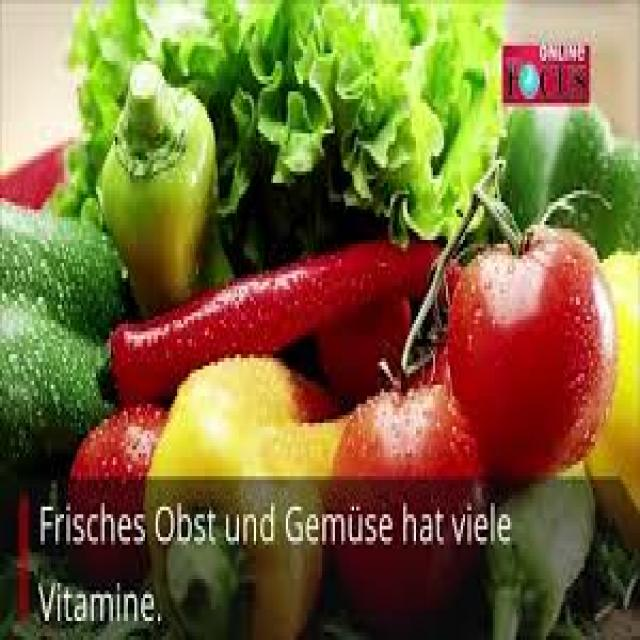organic waste: (139, 354, 350, 636), (109, 232, 454, 396), (444, 217, 614, 469), (326, 377, 488, 629), (98, 61, 233, 324), (0, 195, 126, 472), (207, 118, 506, 229), (181, 57, 506, 145), (486, 95, 638, 267), (38, 0, 136, 225), (132, 0, 506, 57), (64, 400, 169, 602), (401, 164, 499, 377), (478, 461, 593, 636), (582, 244, 638, 571), (2, 545, 162, 636), (320, 297, 407, 408), (578, 537, 638, 617), (473, 187, 522, 240)
